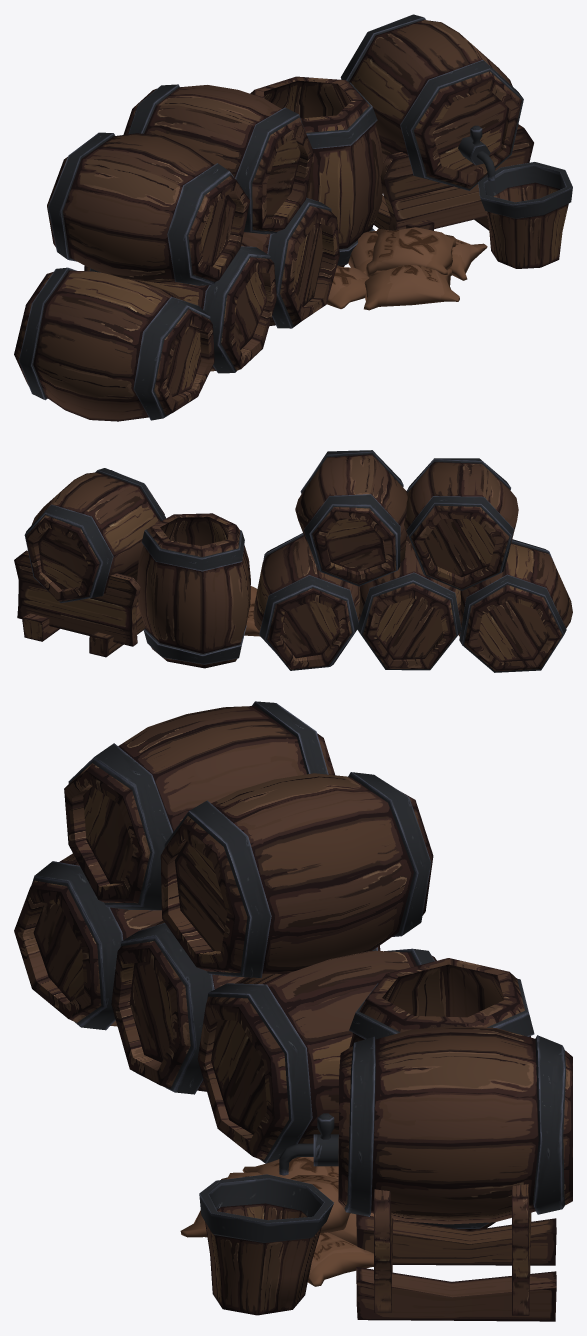
Rendered from BarrelsObstacle.fbx.
3 renders of one model, top to bottom at view 1: azimuth 30°, elevation 25°; view 2: azimuth 150°, elevation 25°; view 3: azimuth 270°, elevation 25°, orthographic. The views are drawn at different scales.
Visible parts, largest first — view 1: SM_PROP_bucket_dungeon_02.001; view 2: SM_PROP_bucket_dungeon_02.001; view 3: SM_PROP_bucket_dungeon_02.001.
Part boxes in pixels (<box>): SM_PROP_bucket_dungeon_02.001: <box>14,14,572,421</box>; SM_PROP_bucket_dungeon_02.001: <box>14,450,572,672</box>; SM_PROP_bucket_dungeon_02.001: <box>14,701,572,1321</box>.
Size of the model in its own units: 5.04 by 1.93 by 3.03.
Materials: 5 (5 with a texture image).
